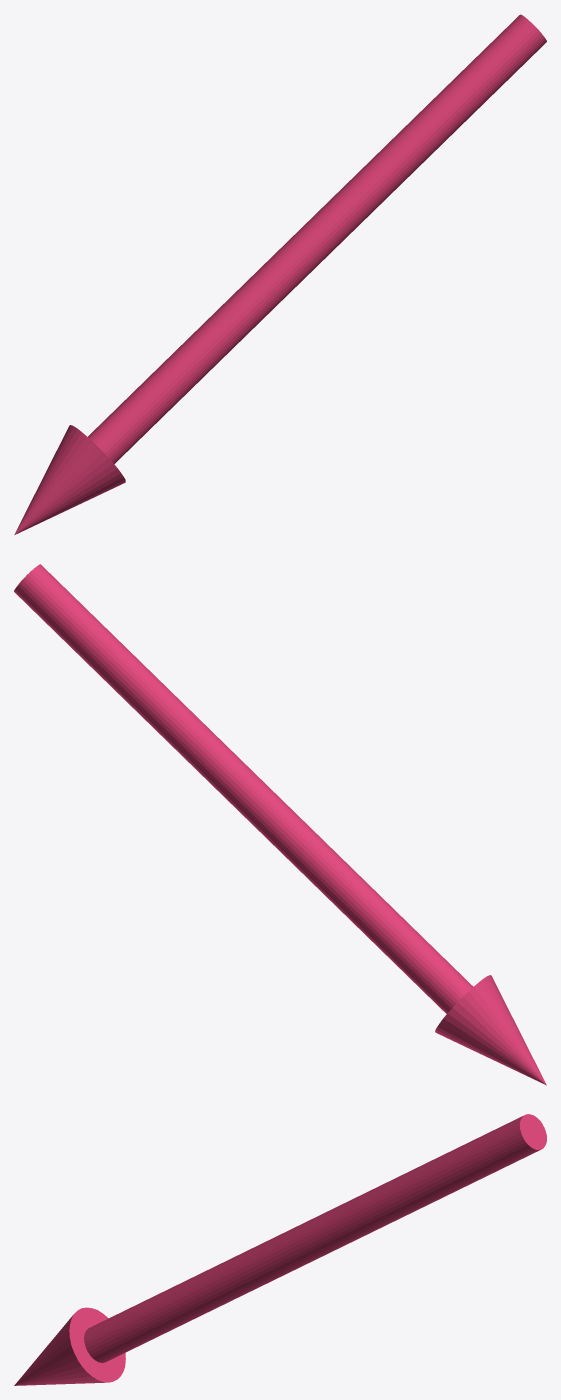
Rendered from Axis 0 C_CH4.gltf.
3 renders of one model, top to bottom at view 1: azimuth 30°, elevation 25°; view 2: azimuth 150°, elevation 25°; view 3: azimuth 330°, elevation 25°, orthographic.
Parts seen in each view (by area): view 1: Eje_C3c_Eje_Cono.004; view 2: Eje_C3c_Eje_Cono.004; view 3: Eje_C3c_Eje_Cono.004.
Part boxes in pixels (<box>): Eje_C3c_Eje_Cono.004: <box>14,14,546,534</box>; Eje_C3c_Eje_Cono.004: <box>14,564,546,1085</box>; Eje_C3c_Eje_Cono.004: <box>14,1114,546,1385</box>.
Bounding box in the file's own units: 2.36 × 1.69 × 0.3106.
